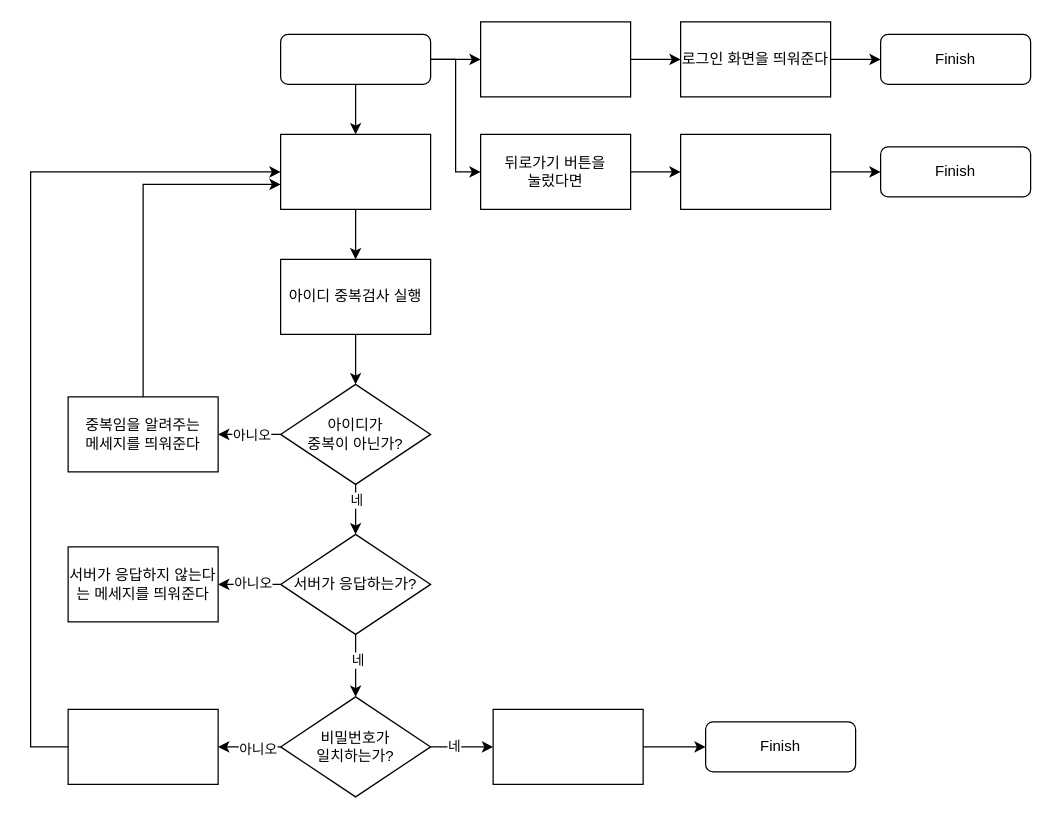
Some shapes in this 1053 by 819 pixel diagram are drawn without their labels. Each missing label, with the box of its shape:
Start: (279, 33, 431, 84)
로그인 버튼을 눌렀다면: (479, 21, 631, 97)
비밀번호가 일치하지 않는다는 메세지를 띄워준다: (67, 708, 218, 784)
상태를 사용자에게 알려주고 첫 화면으로 이동한다: (492, 708, 643, 784)
이전의 화면을 띄워준다: (679, 133, 831, 209)
회원가입에 필요한 정보들을 기입: (279, 133, 431, 209)
